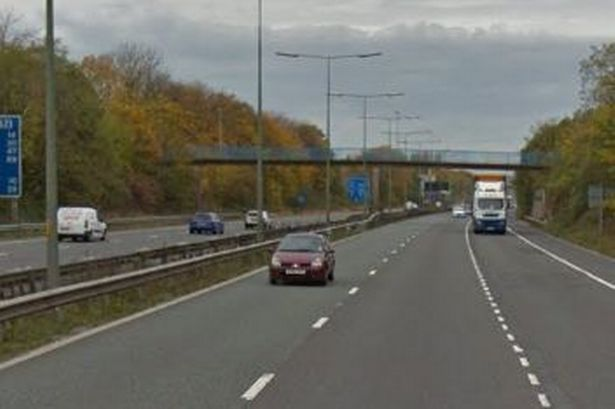bridge: (188, 145, 551, 170)
